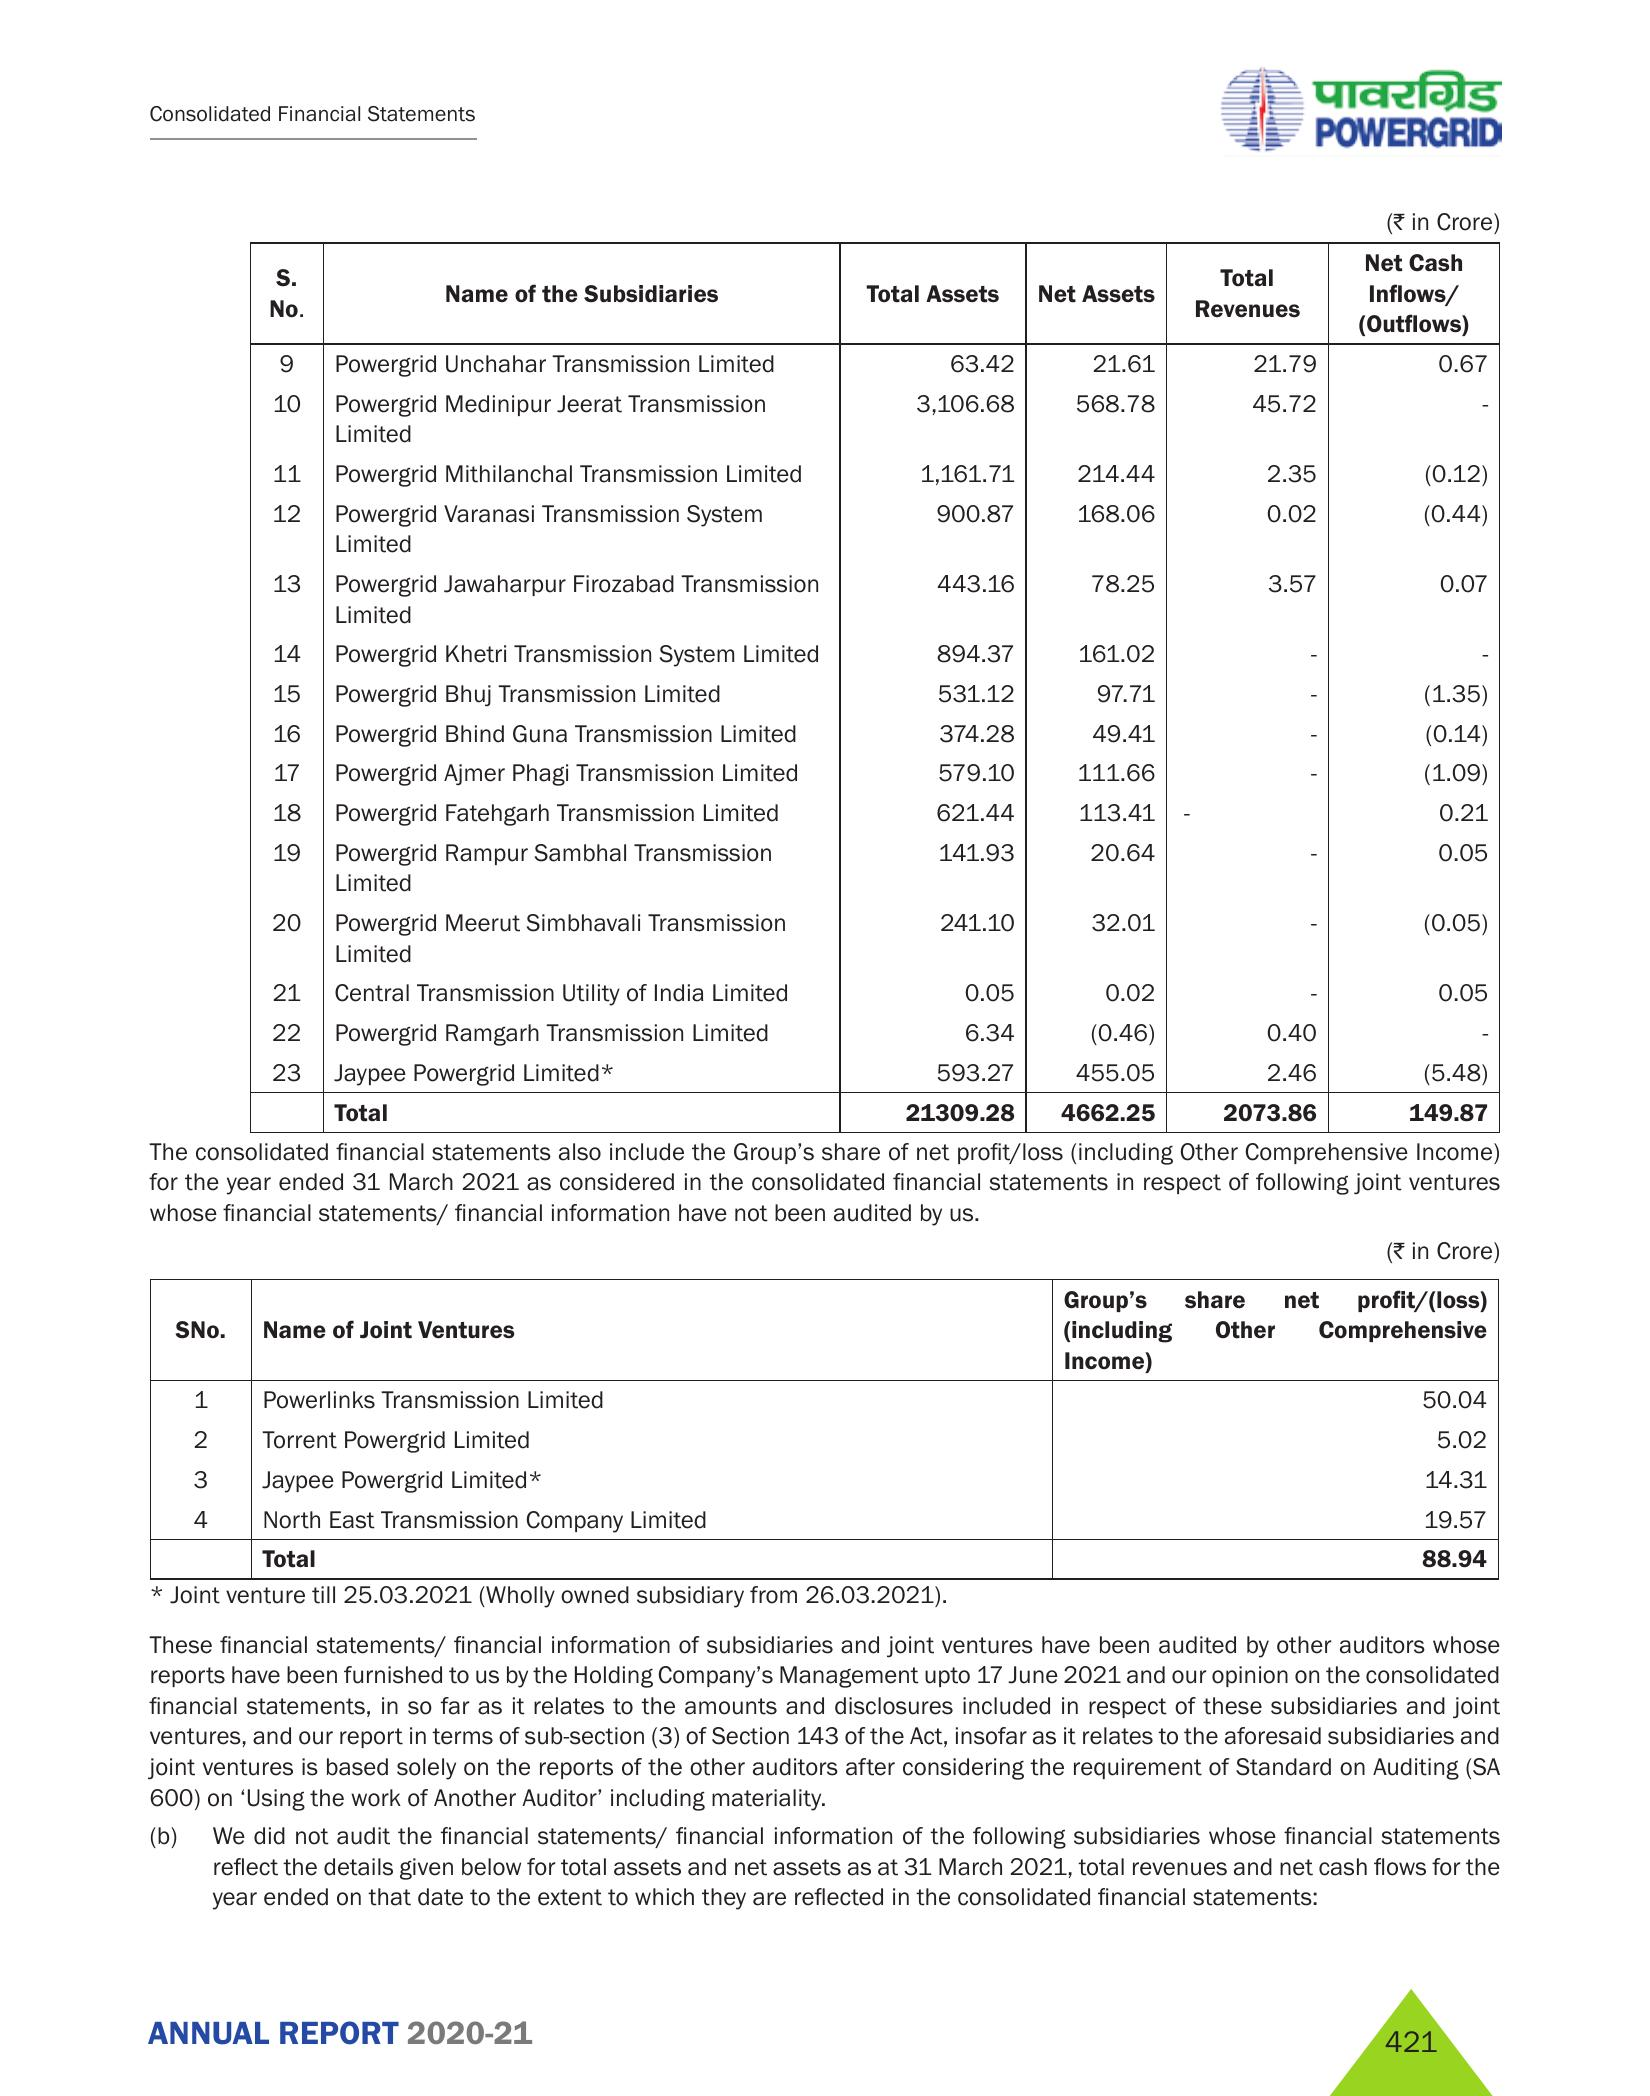Footer: (0, 1968, 1650, 2096)
Header: (0, 0, 1650, 168)
Table: (242, 236, 1504, 1128), (151, 1271, 1511, 1574)
